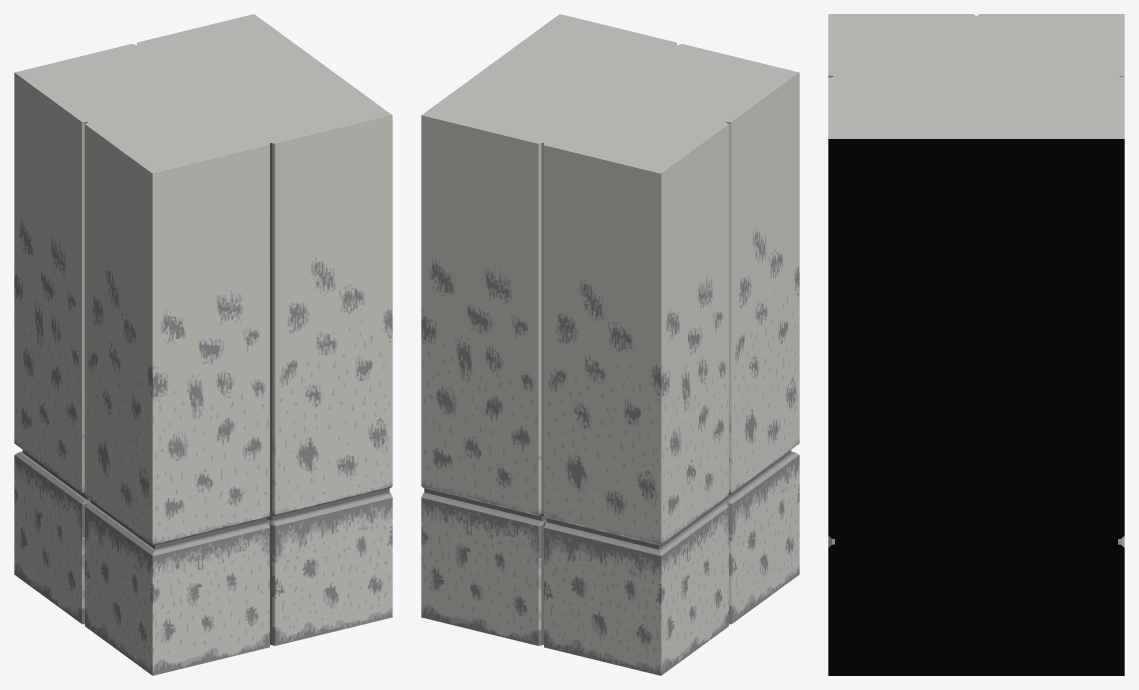
File: end.fbx
The picture shows the model from 3 angles, left to right: view 1: azimuth 30°, elevation 25°; view 2: azimuth 150°, elevation 25°; view 3: azimuth 270°, elevation 25°; orthographic projection. The views are drawn at different scales.
Parts seen in each view (by area): view 1: edge.001; view 2: edge.001; view 3: edge.001.
Part boxes in pixels (x1,y1,x2,y2): edge.001: (14,14,392,675); edge.001: (421,14,799,675); edge.001: (828,14,1124,675).
Bounding box in the file's own units: 1100 × 2200 × 1100.
